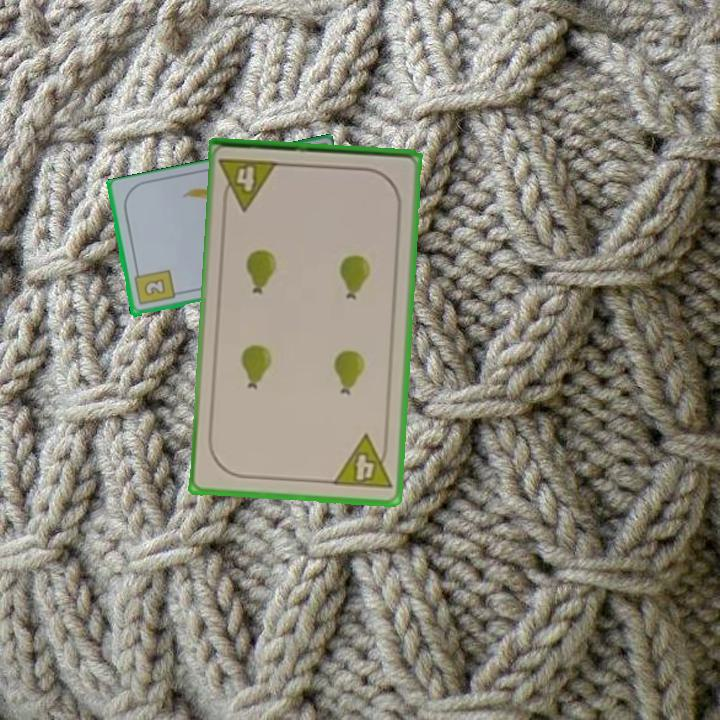2b: (130, 266, 177, 308)
4p: (329, 431, 394, 493), (216, 155, 281, 213)
